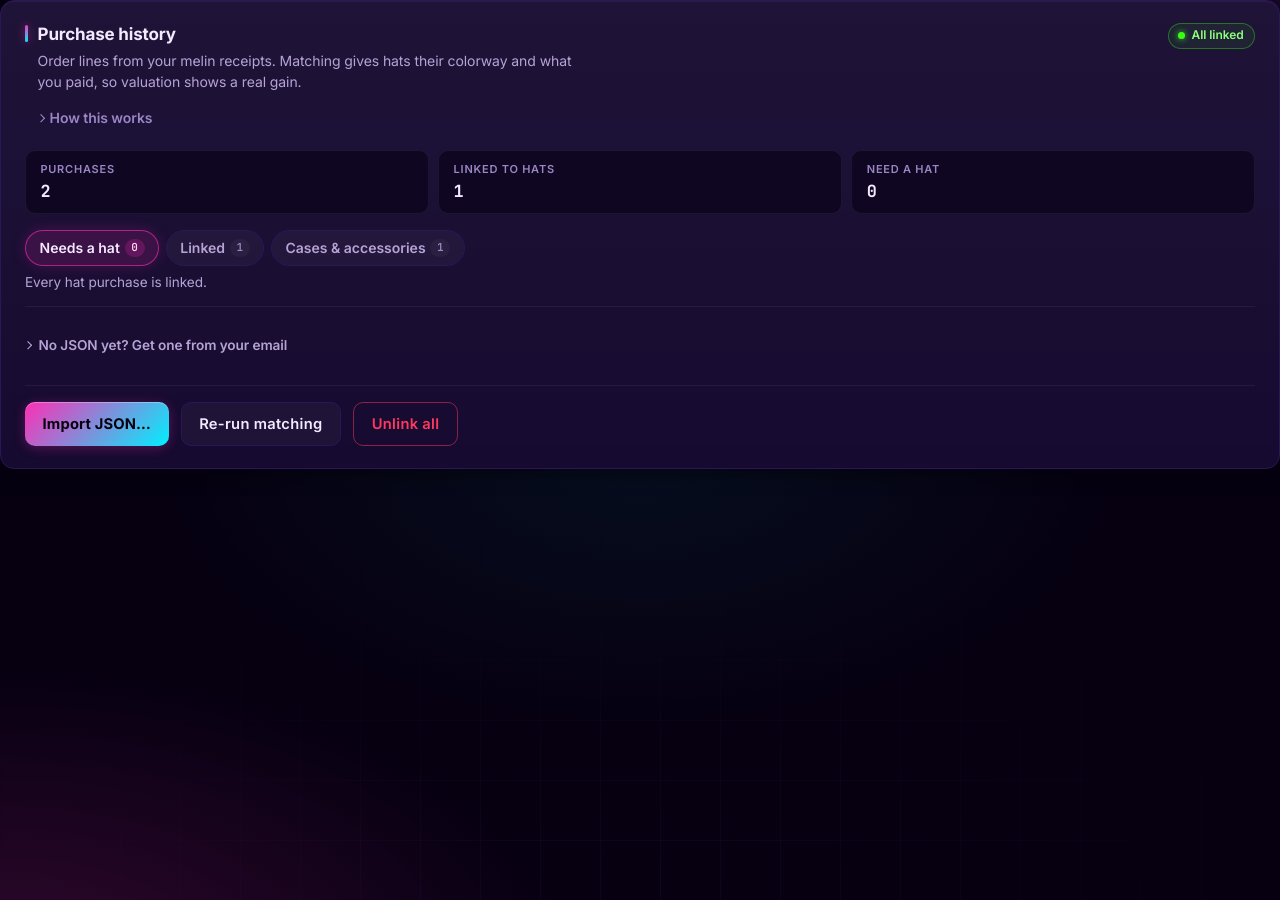
it: PurchasesCard — Unlink all asks first › unlinks only once the dialog is confirmed, then says what it did
The image size is (1280, 900).
Click the button "Unlink all" at (406, 424), box [353,402,458,446]
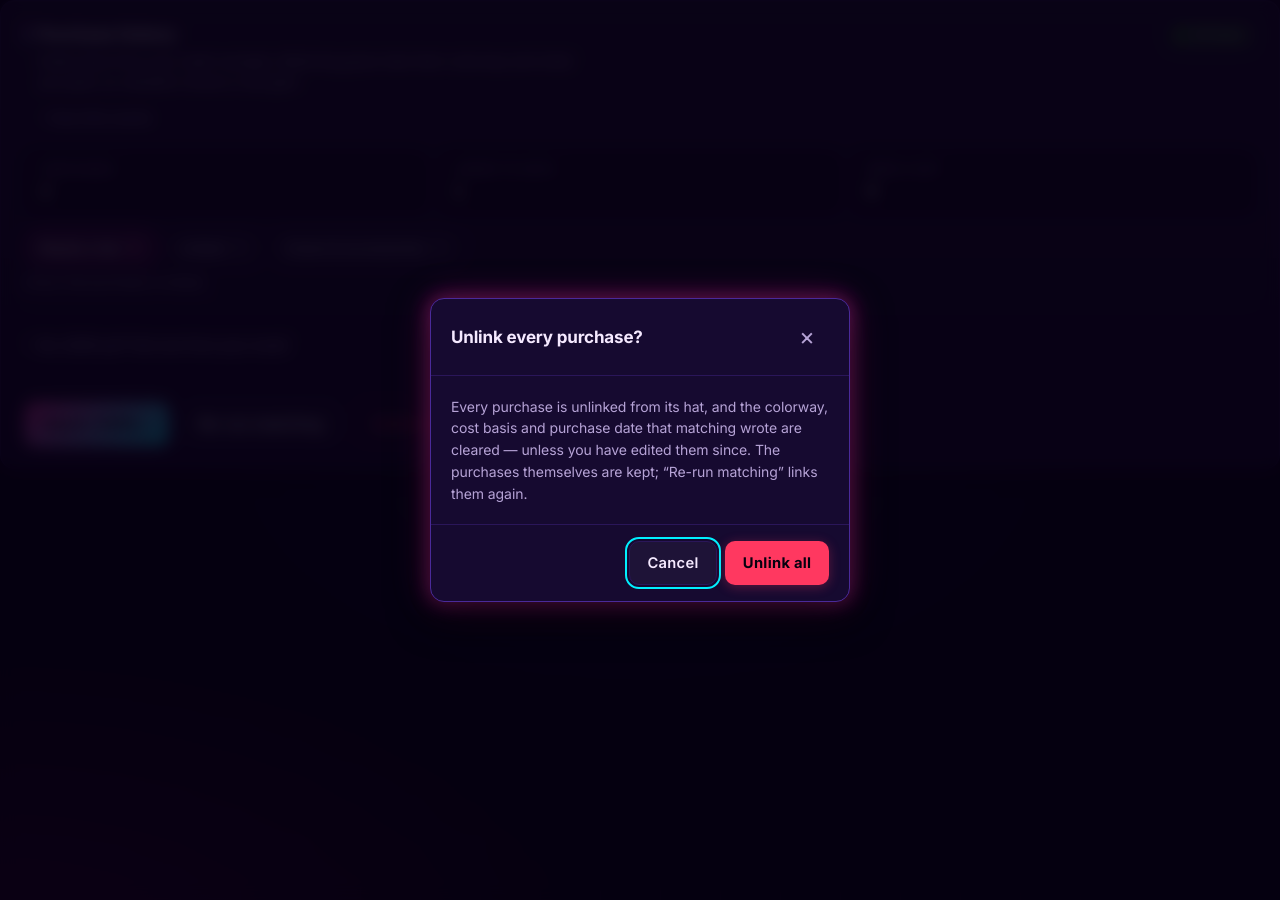
Click the button "Unlink all" at (777, 563), box [725,541,829,585]
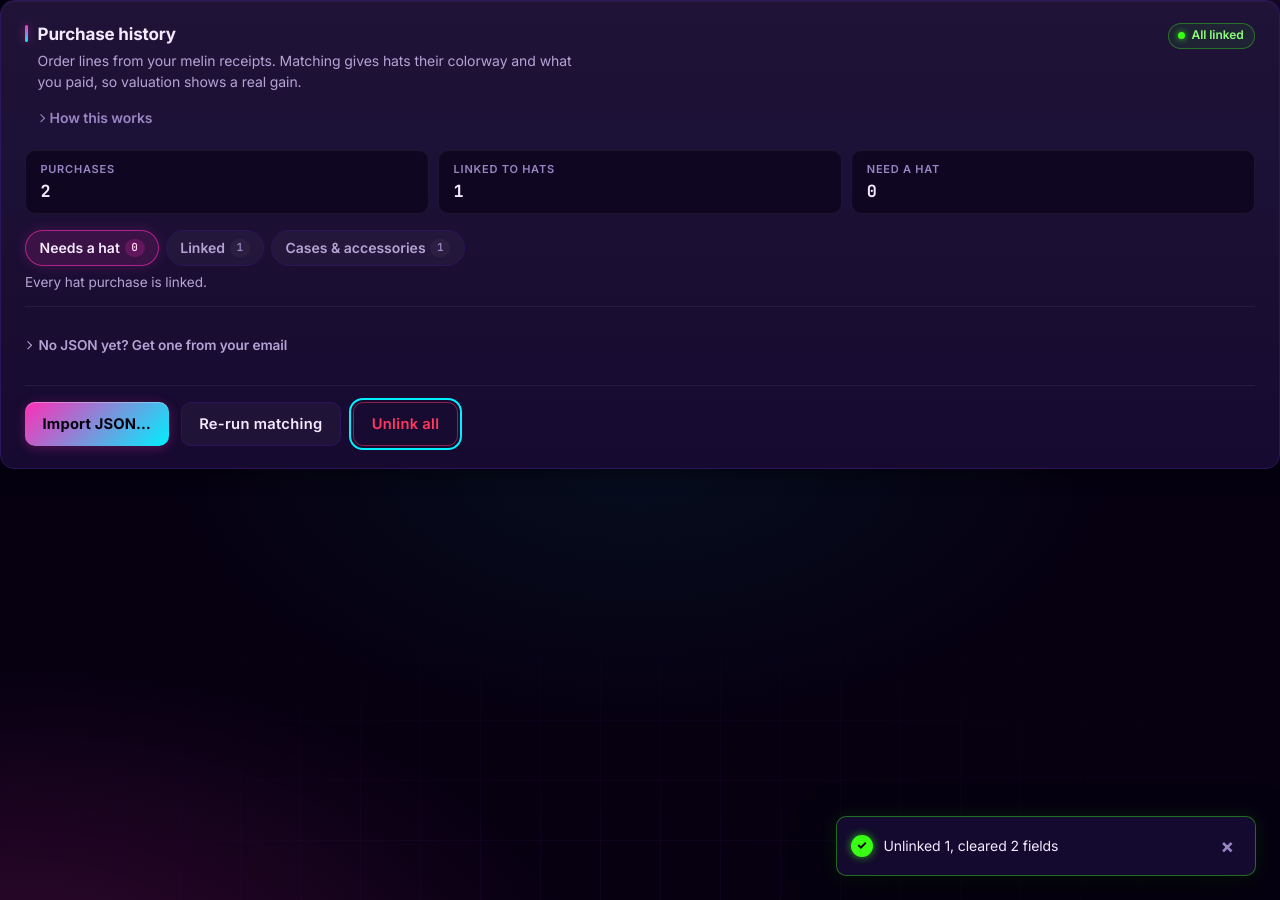
expect the text "Unlinked 1, cleared 2 fields" is shown: met, box [883,837,1058,854]
